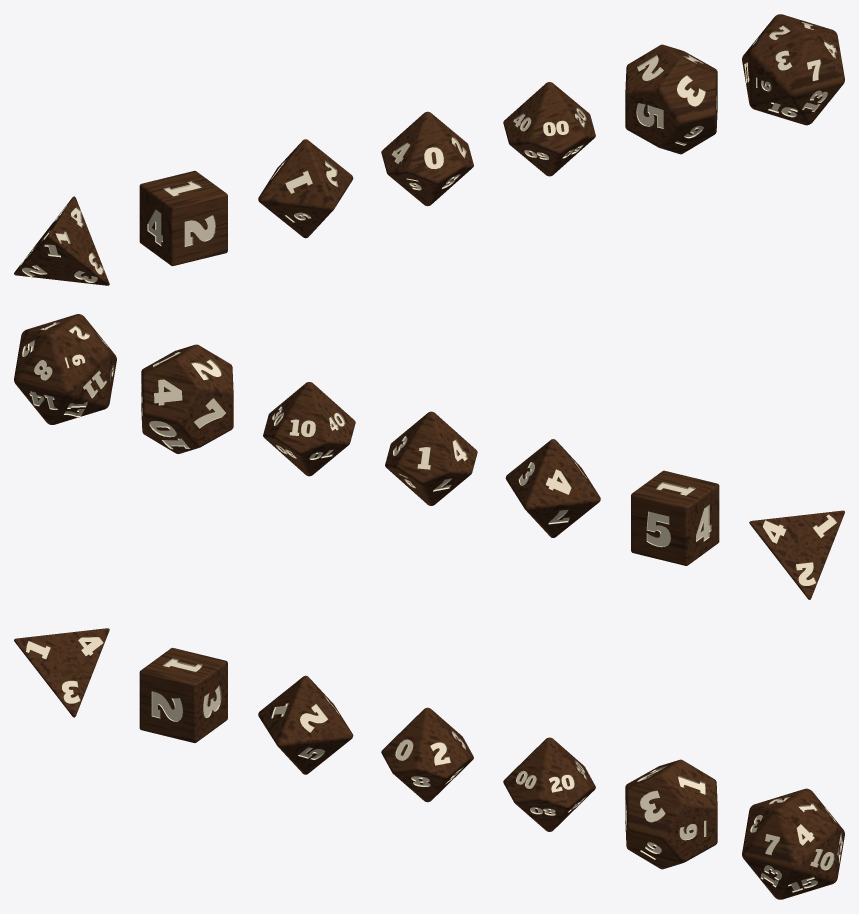
File: walnut.glb
The picture shows the model from 3 angles, top to bottom: view 1: azimuth 30°, elevation 25°; view 2: azimuth 150°, elevation 25°; view 3: azimuth 330°, elevation 25°; orthographic projection.
Parts seen in each view (by area): view 1: d20, d12, d6, d100, d10, d8, d4; view 2: d20, d12, d6, d100, d10, d8, d4; view 3: d20, d12, d6, d8, d10, d100, d4.
Part boxes in pixels (<box>): d20: <box>742,14,844,125</box>; d12: <box>625,44,717,154</box>; d6: <box>139,171,227,266</box>; d100: <box>503,82,595,176</box>; d10: <box>381,111,473,206</box>; d8: <box>258,139,353,238</box>; d4: <box>14,196,109,285</box>; d20: <box>14,314,116,424</box>; d12: <box>141,344,233,453</box>; d6: <box>631,470,719,565</box>; d100: <box>263,382,355,476</box>; d10: <box>385,411,477,505</box>; d8: <box>505,439,600,537</box>; d4: <box>749,510,844,599</box>; d20: <box>742,788,844,899</box>; d12: <box>625,759,717,869</box>; d6: <box>139,647,227,742</box>; d8: <box>258,675,353,774</box>; d10: <box>381,707,473,802</box>; d100: <box>503,737,595,831</box>; d4: <box>14,628,109,717</box>.
Size of the model in its own units: 21.14 by 2.47 by 2.47.
14 materials, 7 textured.
